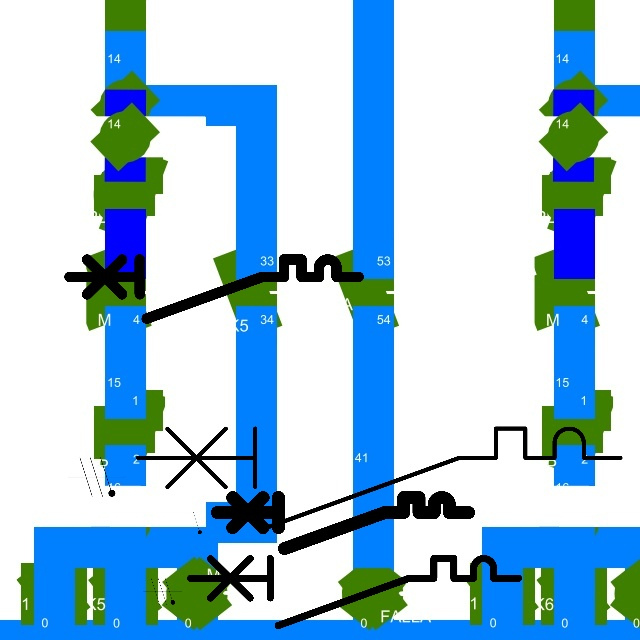interruptor_termomagnetico: (125, 416, 633, 540), (182, 550, 527, 634), (62, 252, 366, 326), (210, 491, 474, 555)
